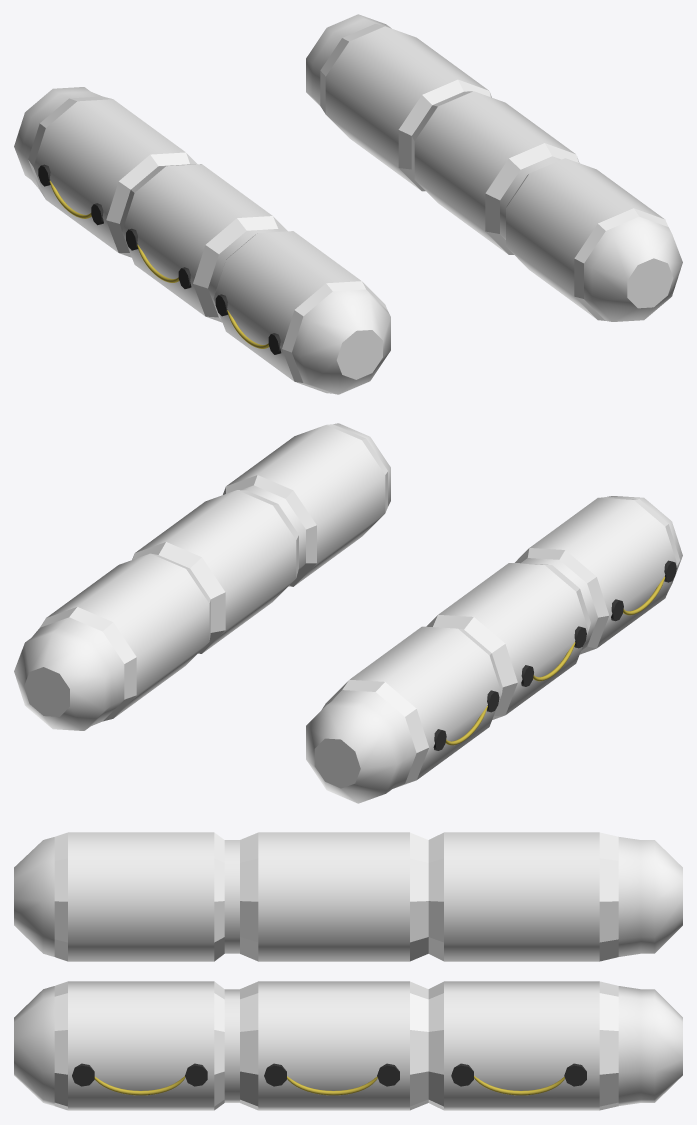
Rendered from Inflatable - Straight piece.fbx.
3 renders of one model, top to bottom at view 1: azimuth 30°, elevation 25°; view 2: azimuth 150°, elevation 25°; view 3: azimuth 270°, elevation 25°, orthographic. The views are drawn at different scales.
Parts seen in each view (by area): view 1: Inflatable - straight piece; view 2: Inflatable - straight piece; view 3: Inflatable - straight piece.
Boxes of the visible parts, x1=… form: Inflatable - straight piece: x1=14, y1=14, x2=682, y2=394; Inflatable - straight piece: x1=14, y1=423, x2=682, y2=803; Inflatable - straight piece: x1=14, y1=832, x2=682, y2=1110.
Bounding box in the file's own units: 66.37 × 17.52 × 90.4.
